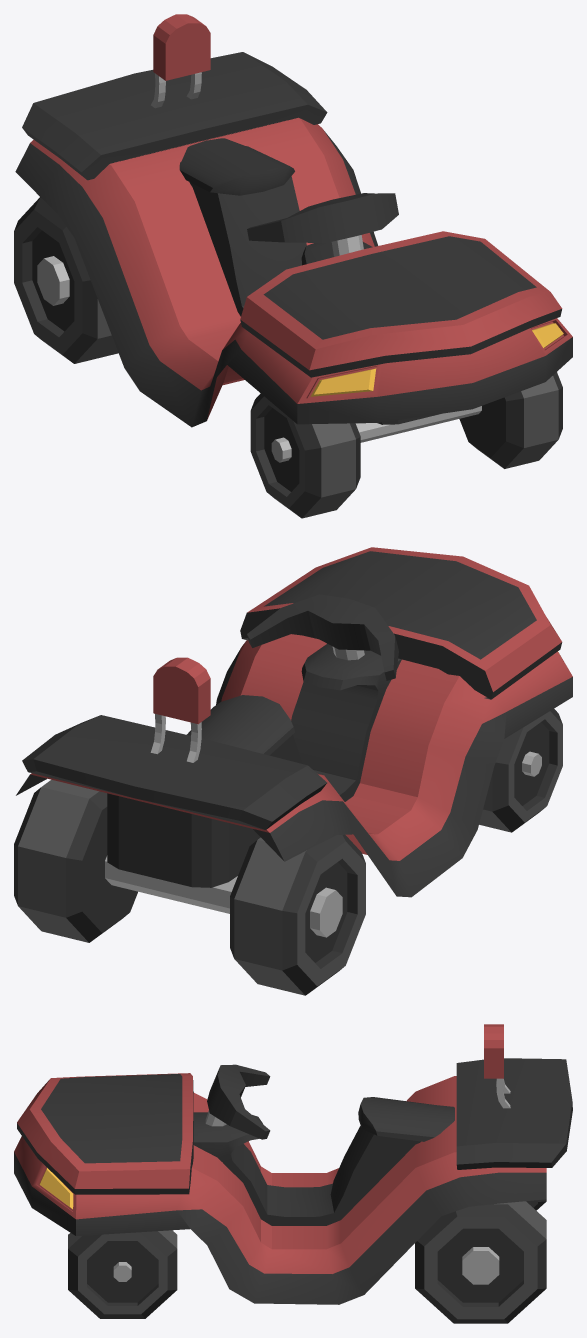
Rendered from atv01_color01.fbx.
3 views of the same model, one above another, from view 1: azimuth 30°, elevation 25°; view 2: azimuth 150°, elevation 25°; view 3: azimuth 270°, elevation 25° (orthographic). The views are drawn at different scales.
Visible parts, largest first — view 1: Plane.025, Cylinder.004, Cylinder.005; view 2: Plane.025, Cylinder.005, Cylinder.004; view 3: Plane.025, Cylinder.005, Cylinder.004.
Part boxes in pixels (left/top/right/bottom): Plane.025: left=15, top=14, right=572, bottom=427; Cylinder.004: left=250, top=372, right=562, bottom=518; Cylinder.005: left=14, top=197, right=118, bottom=363; Plane.025: left=16, top=547, right=572, bottom=897; Cylinder.005: left=14, top=779, right=365, bottom=995; Cylinder.004: left=479, top=709, right=562, bottom=832; Plane.025: left=14, top=1024, right=572, bottom=1304; Cylinder.005: left=415, top=1199, right=546, bottom=1323; Cylinder.004: left=68, top=1230, right=177, bottom=1318.
Size of the model in its own units: 144 by 144 by 297.
